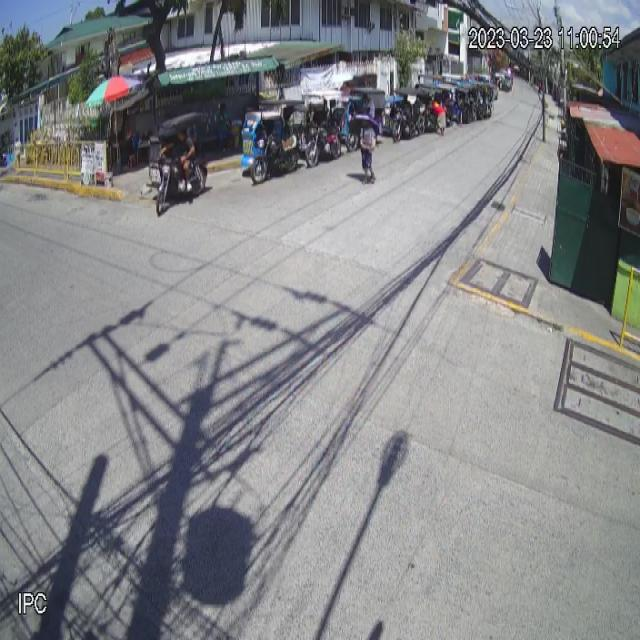Tricycle: (146, 112, 208, 215), (240, 100, 305, 184)
